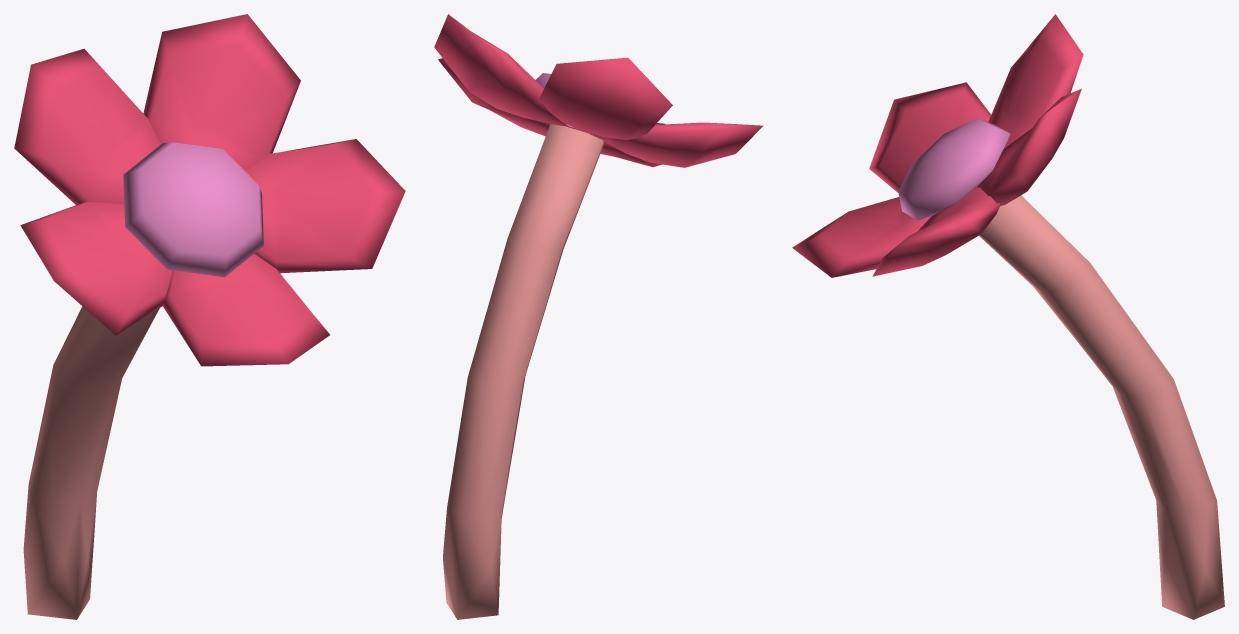
File: O_Flower.fbx
3 renders of one model, left to right at view 1: azimuth 30°, elevation 25°; view 2: azimuth 150°, elevation 25°; view 3: azimuth 270°, elevation 25°, orthographic. The views are drawn at different scales.
Visible parts, largest first — view 1: Flower2Corrupted; view 2: Flower2Corrupted; view 3: Flower2Corrupted.
Part boxes in pixels (<box>): Flower2Corrupted: <box>14,14,405,619</box>; Flower2Corrupted: <box>434,14,763,619</box>; Flower2Corrupted: <box>792,14,1224,619</box>.
Bounding box in the file's own units: 223 × 377 × 270.
